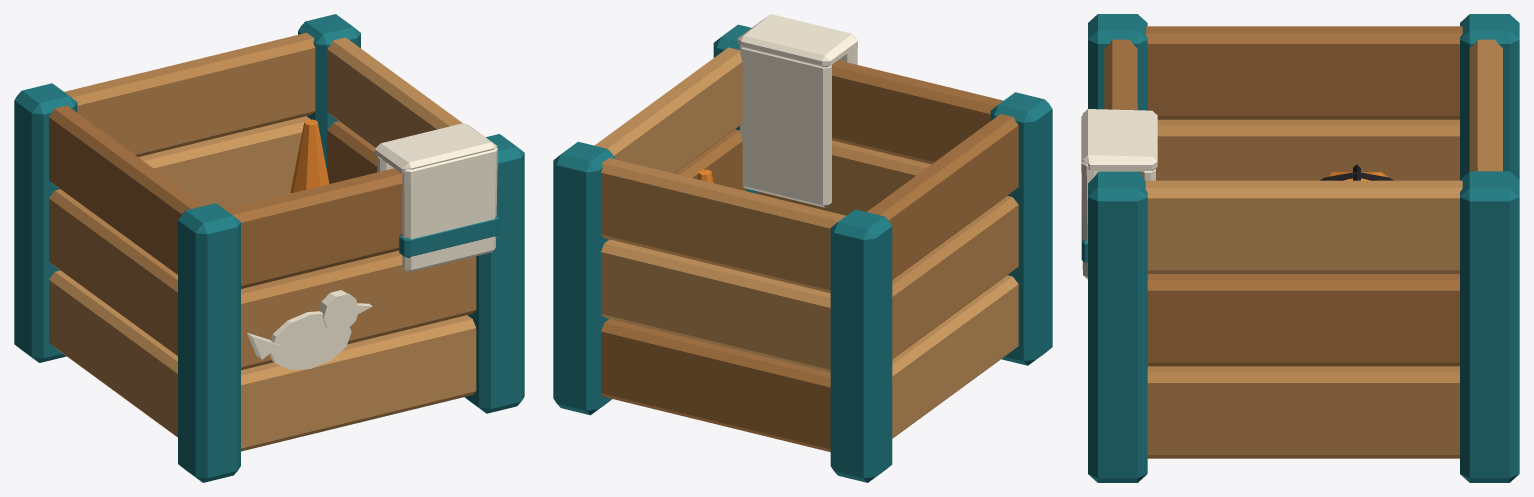
The model's file is gear_crate.glb.
3 renders of one model, left to right at view 1: azimuth 30°, elevation 25°; view 2: azimuth 150°, elevation 25°; view 3: azimuth 270°, elevation 25°, orthographic. The views are drawn at different scales.
Parts seen in each view (by area): view 1: gear_crate; view 2: gear_crate; view 3: gear_crate.
Part boxes in pixels (x1,y1,x2,y2): gear_crate: (14, 14, 524, 482); gear_crate: (553, 14, 1052, 482); gear_crate: (1081, 14, 1519, 482).
Bounding box in the file's own units: 0.65 × 0.5178 × 0.6598.
